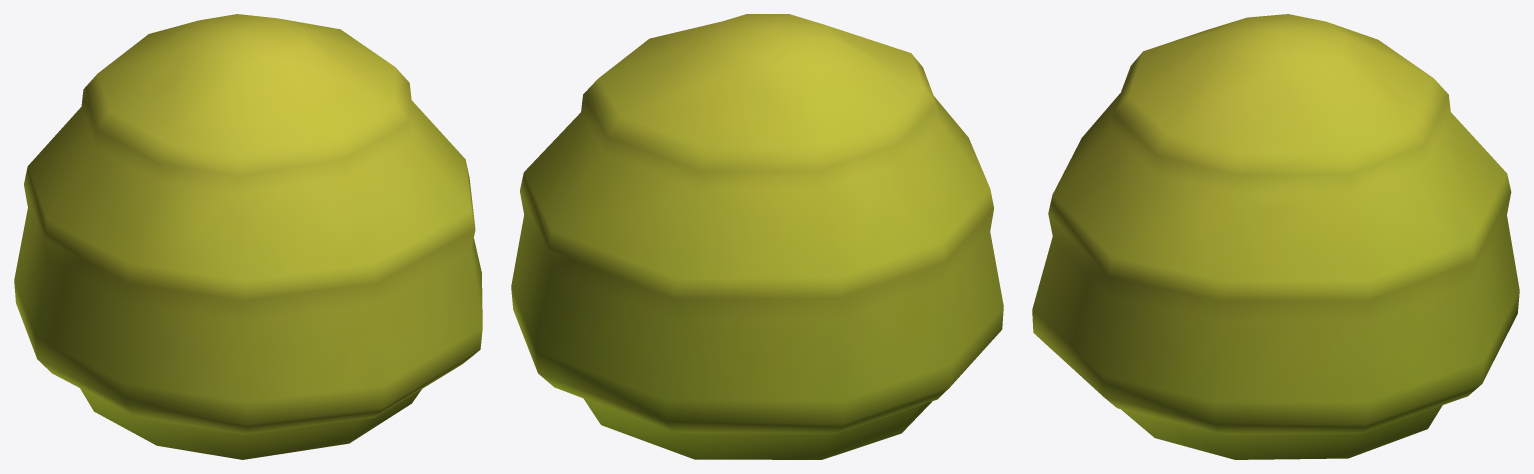
The model's file is SM_Bush_11.fbx.
3 renders of one model, left to right at view 1: azimuth 30°, elevation 25°; view 2: azimuth 150°, elevation 25°; view 3: azimuth 270°, elevation 25°, orthographic. The views are drawn at different scales.
Visible parts, largest first — view 1: SM_Bush_11; view 2: SM_Bush_11; view 3: SM_Bush_11.
Part boxes in pixels (x1,y1,x2,y2): SM_Bush_11: (14, 14, 482, 459); SM_Bush_11: (511, 14, 1003, 459); SM_Bush_11: (1032, 14, 1519, 459).
Bounding box in the file's own units: 133 × 112 × 140.
